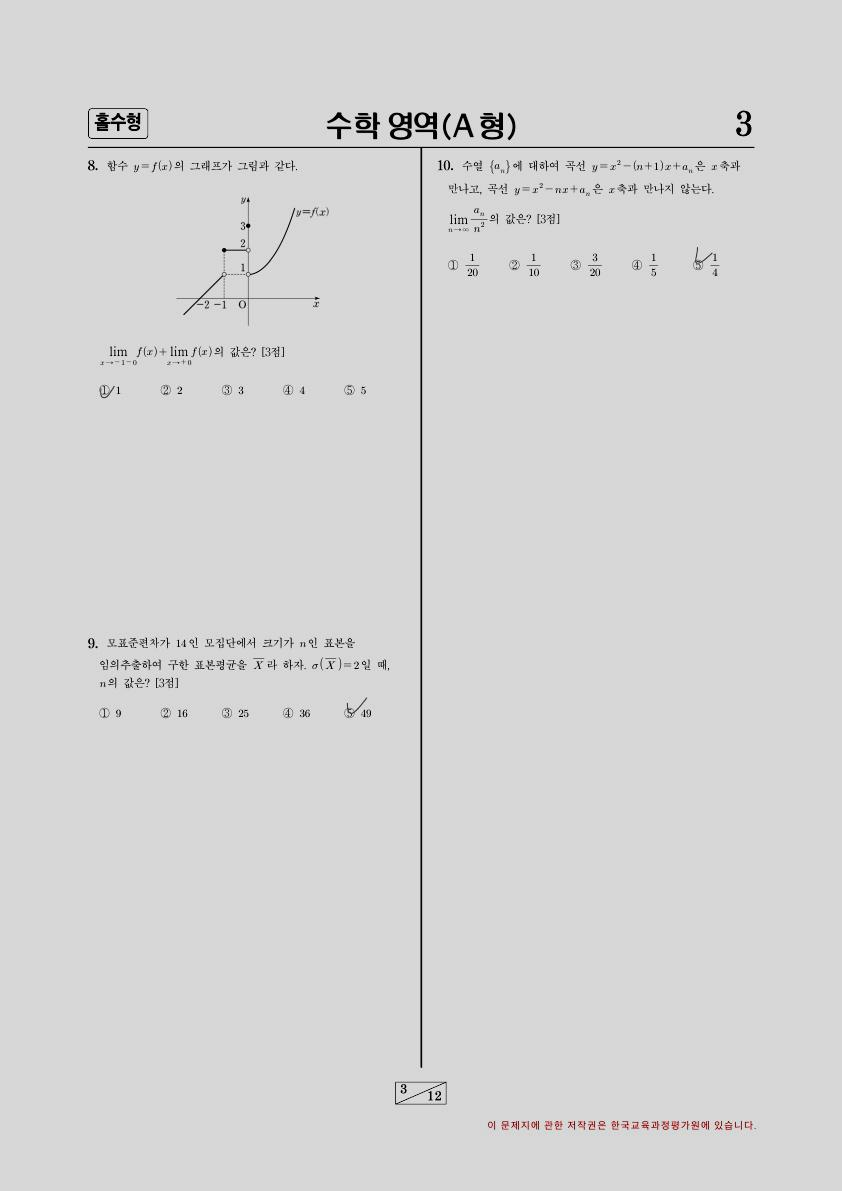question: (72, 153, 383, 418), (424, 152, 757, 300), (69, 629, 410, 733)
